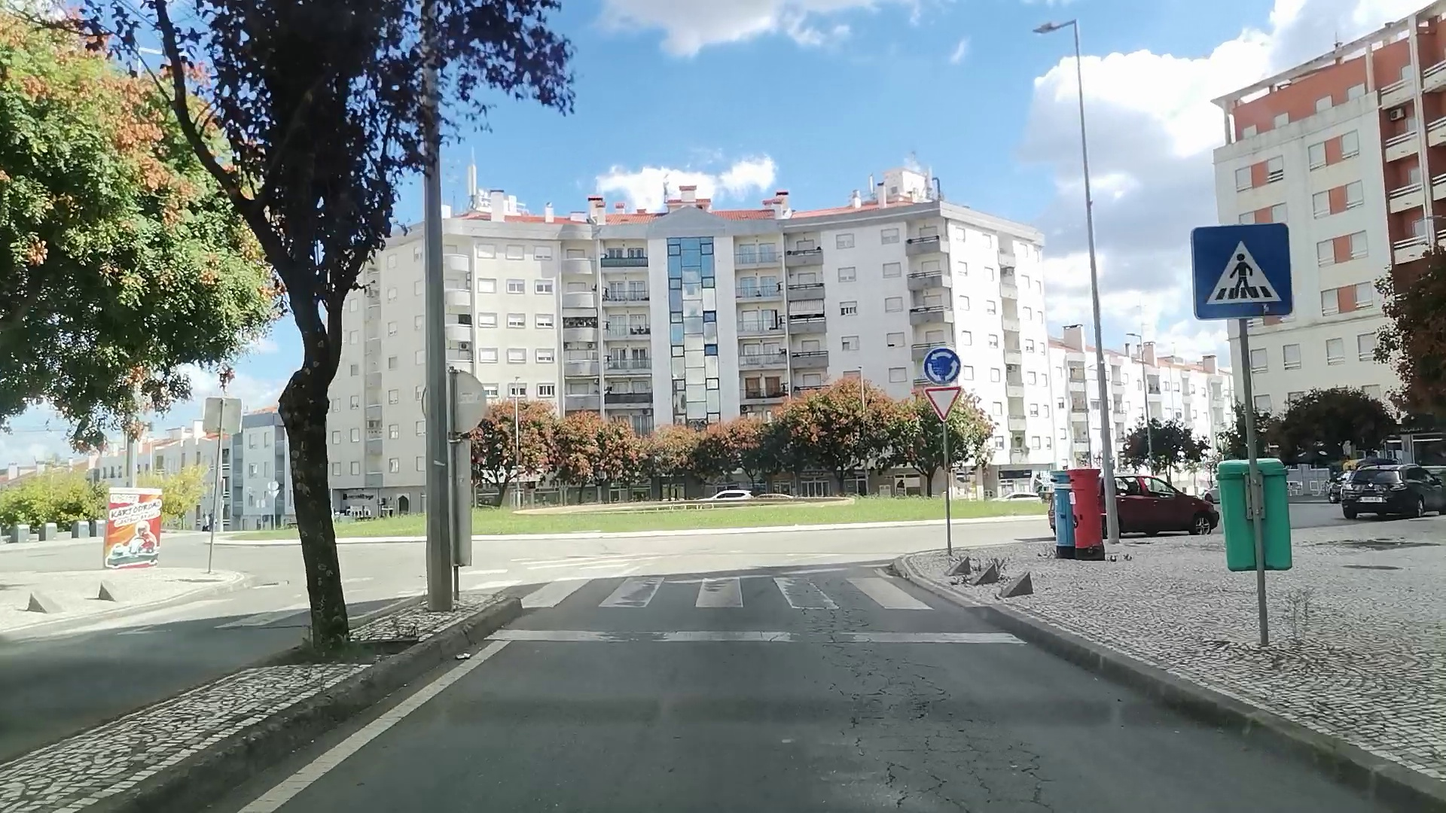Stairs: (507, 570, 946, 614), (43, 597, 355, 635)
